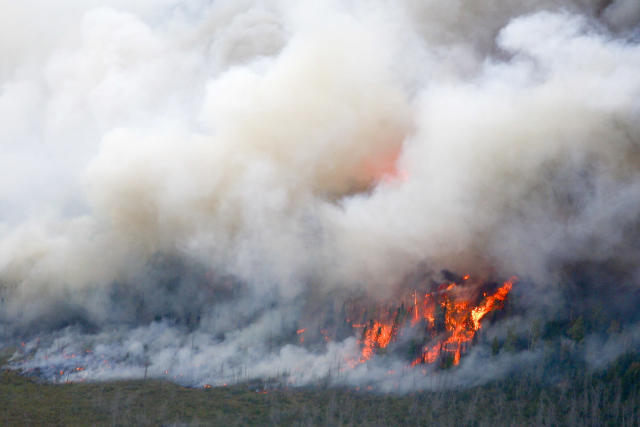fire: (316, 249, 525, 390), (184, 235, 313, 396), (306, 100, 477, 214)
